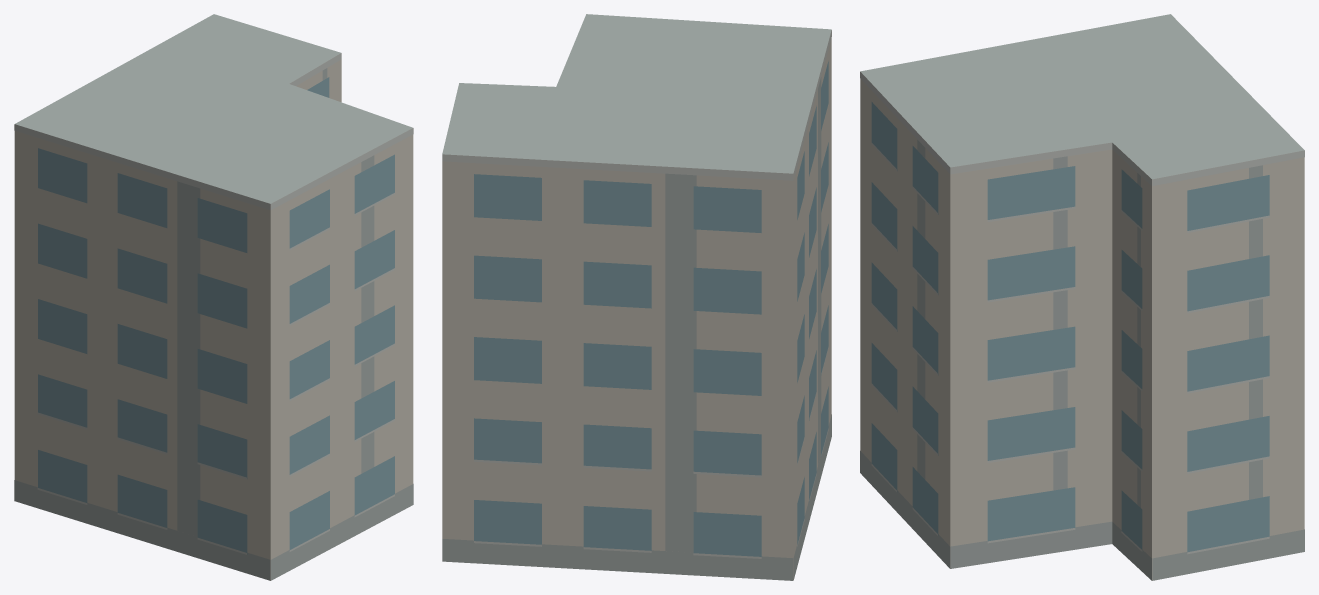
File: survey-upis-32943231.glb
The picture shows the model from 3 angles, left to right: view 1: azimuth 30°, elevation 25°; view 2: azimuth 150°, elevation 25°; view 3: azimuth 270°, elevation 25°; orthographic projection. The views are drawn at different scales.
Parts seen in each view (by area): view 1: survey-upis-32943231.tmp; view 2: survey-upis-32943231.tmp; view 3: survey-upis-32943231.tmp.
Part boxes in pixels (x1,y1,x2,y2): survey-upis-32943231.tmp: (14,14,413,580); survey-upis-32943231.tmp: (442,14,831,580); survey-upis-32943231.tmp: (860,14,1304,580).
Size of the model in its own units: 12.56 by 14.2 by 14.26.
